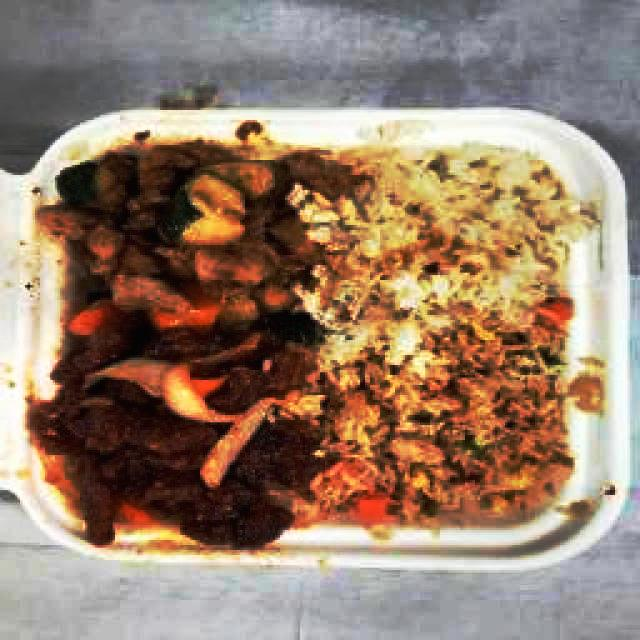Beijing Beef: (54, 306, 306, 542)
Fried Rice: (334, 359, 544, 519), (324, 165, 540, 320)
Kung Pao Chicken: (68, 145, 308, 314)
